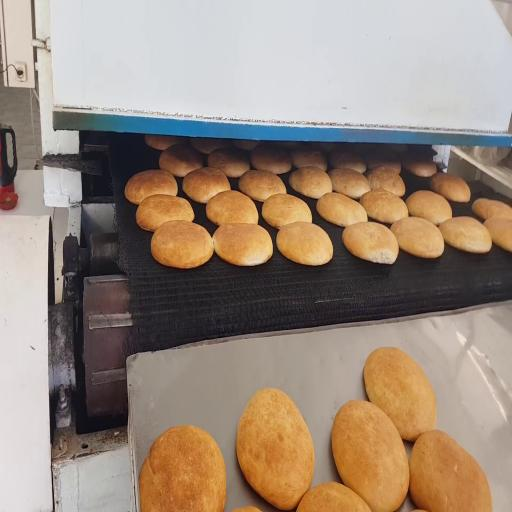bread: (236, 389, 314, 510), (332, 401, 409, 511), (139, 426, 226, 511), (364, 348, 436, 441), (410, 430, 492, 511), (151, 220, 213, 268), (213, 224, 273, 266), (276, 222, 333, 265), (343, 222, 398, 264), (391, 217, 444, 258), (136, 194, 194, 231), (297, 482, 370, 511), (439, 217, 491, 253), (206, 191, 258, 225), (125, 170, 177, 204), (317, 192, 367, 227), (262, 194, 312, 228), (183, 168, 230, 203), (360, 190, 408, 224), (406, 191, 452, 225), (159, 144, 203, 177), (239, 171, 286, 201), (289, 167, 332, 198), (329, 169, 370, 199), (251, 144, 291, 174), (208, 148, 249, 177), (367, 166, 405, 197), (430, 173, 470, 202), (484, 218, 511, 252), (330, 148, 366, 173), (291, 147, 327, 171), (472, 199, 511, 219), (402, 158, 437, 177), (366, 155, 401, 173), (190, 138, 228, 154), (145, 135, 183, 150), (232, 140, 261, 151), (270, 141, 300, 150), (233, 506, 260, 511)
